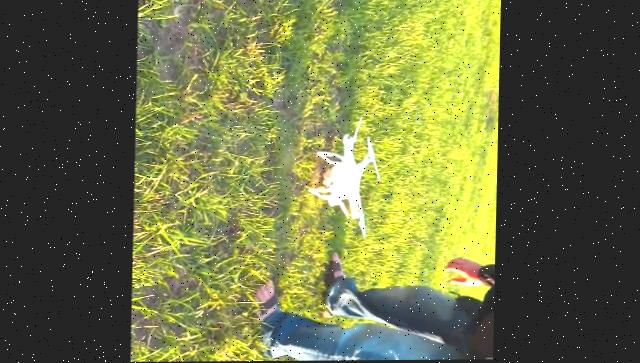drone: (309, 119, 381, 240)
